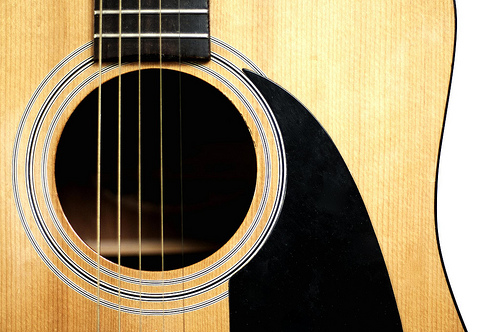guitar: (1, 1, 474, 332)
